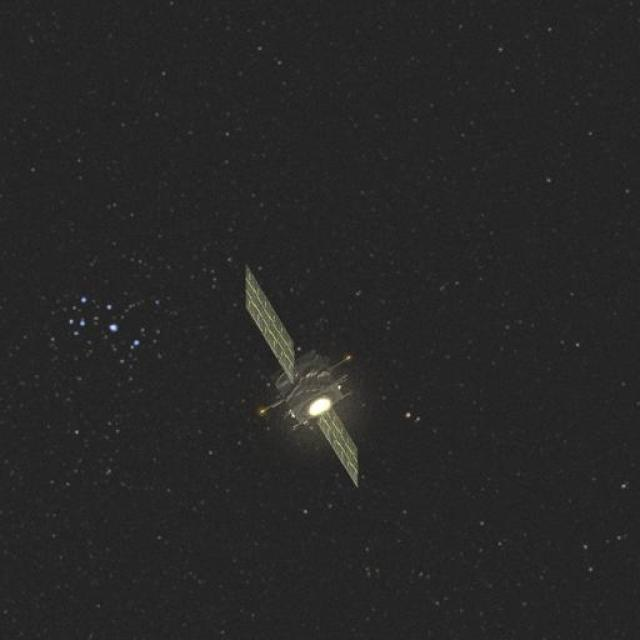smart_1: (218, 251, 388, 531)
